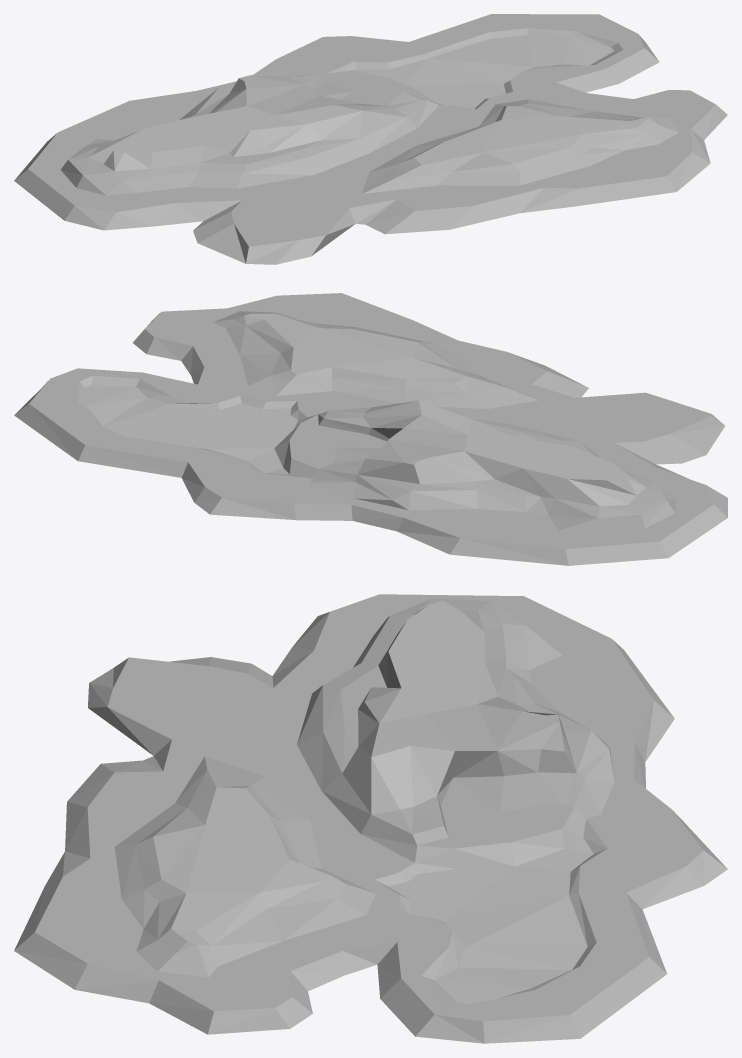
Rendered from EA03_Nature_Solid_Flat_01b.glb.
3 renders of one model, top to bottom at view 1: azimuth 30°, elevation 25°; view 2: azimuth 150°, elevation 25°; view 3: azimuth 270°, elevation 25°, orthographic. The views are drawn at different scales.
Visible parts, largest first — view 1: EA03_Nature_Solid_Flat_01b; view 2: EA03_Nature_Solid_Flat_01b; view 3: EA03_Nature_Solid_Flat_01b.
Boxes of the visible parts, left/top/right/bottom form: EA03_Nature_Solid_Flat_01b: left=14, top=14, right=727, bottom=264; EA03_Nature_Solid_Flat_01b: left=14, top=293, right=727, bottom=565; EA03_Nature_Solid_Flat_01b: left=14, top=594, right=727, bottom=1043.
Bounding box in the file's own units: 16.4 × 0.9832 × 11.21.
1 material, 1 textured.
